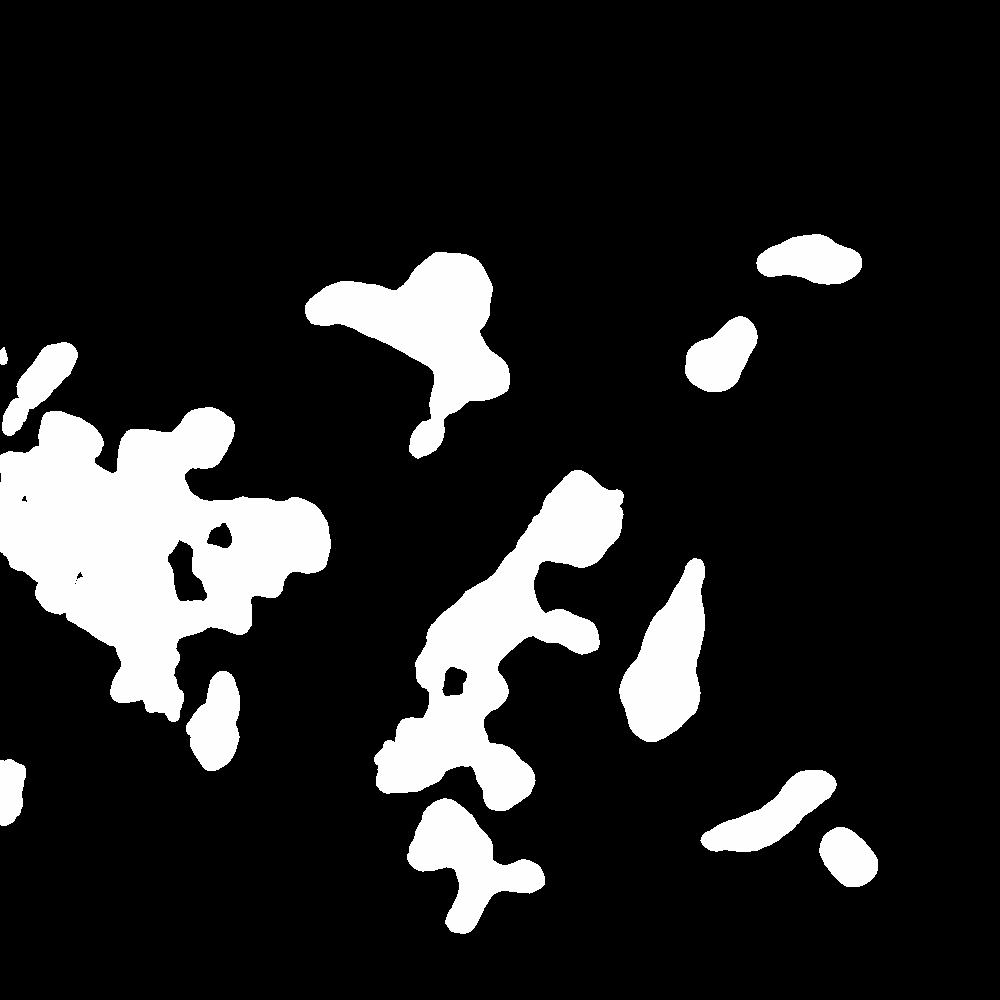illegal: (1, 345, 330, 774), (379, 656, 549, 931), (303, 250, 509, 452), (621, 559, 711, 737), (430, 554, 538, 674), (527, 467, 625, 566), (715, 768, 824, 854), (567, 780, 625, 928), (754, 240, 855, 290), (686, 321, 750, 395), (535, 607, 599, 655), (820, 829, 871, 889)
